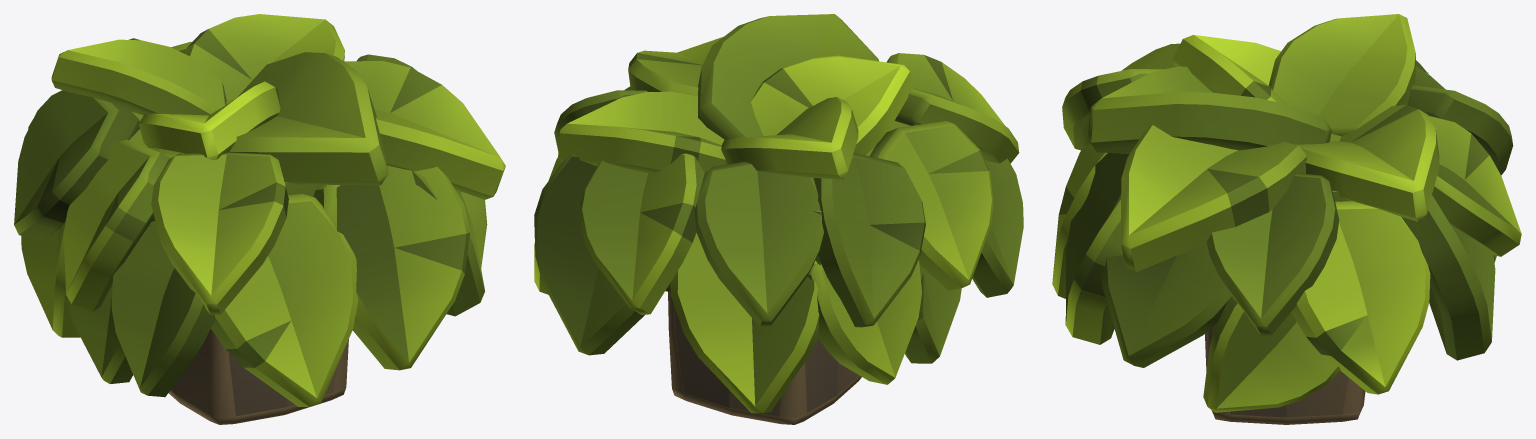
The model's file is leafs_branch_LOD_group.fbx.
3 views of the same model, side by side, from view 1: azimuth 30°, elevation 25°; view 2: azimuth 150°, elevation 25°; view 3: azimuth 270°, elevation 25° (orthographic). The views are drawn at different scales.
Parts seen in each view (by area): view 1: leafs_branch_LOD0; view 2: leafs_branch_LOD0; view 3: leafs_branch_LOD0.
Boxes of the visible parts, <box> form: leafs_branch_LOD0: <box>14,14,505,424</box>; leafs_branch_LOD0: <box>534,14,1023,424</box>; leafs_branch_LOD0: <box>1052,14,1521,424</box>.
Size of what is drawn, in the model's own units: 170 by 131 by 165.
Materials: 1 (1 with a texture image).
